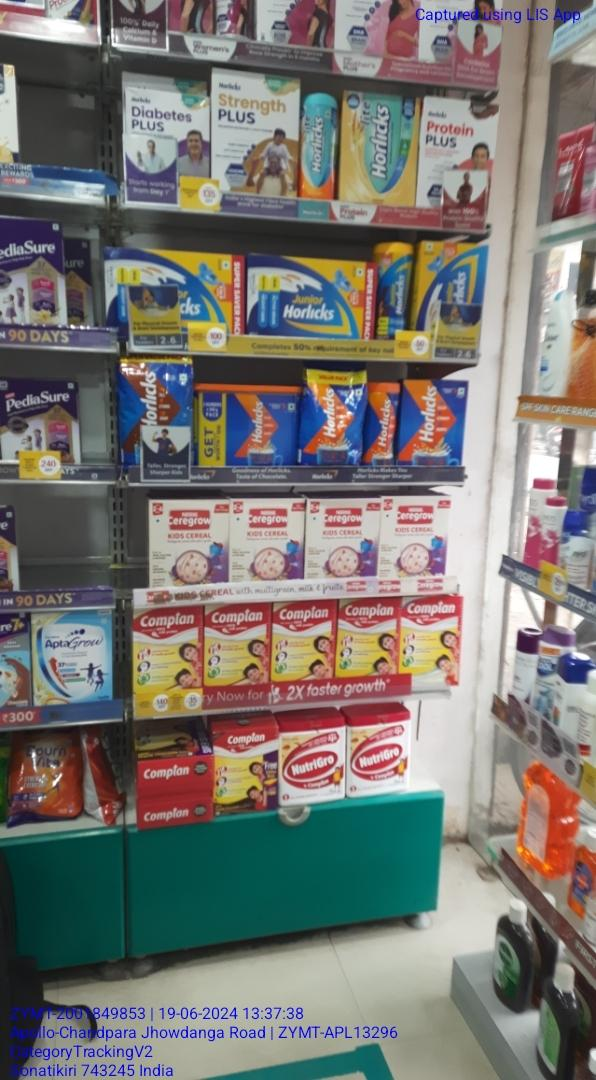COMPLAN_CREAMY_CLASSIC_500_G_PACK: (399, 598, 461, 688)
HORLICKS_LITE_REGULAR_MALT_500_GM_JAR: (301, 91, 337, 199)
HORLICK_CLASSIC_MALT_500_G_JAR: (364, 380, 398, 467)
HORLICK_CLASSIC_MALT_500_G_PACK: (403, 379, 464, 466)
HORLICK_MALT_1_KG_CONTAINER: (196, 382, 294, 472)
PEDIASURE_VANILLA_500_G_PACK: (0, 216, 67, 326)
